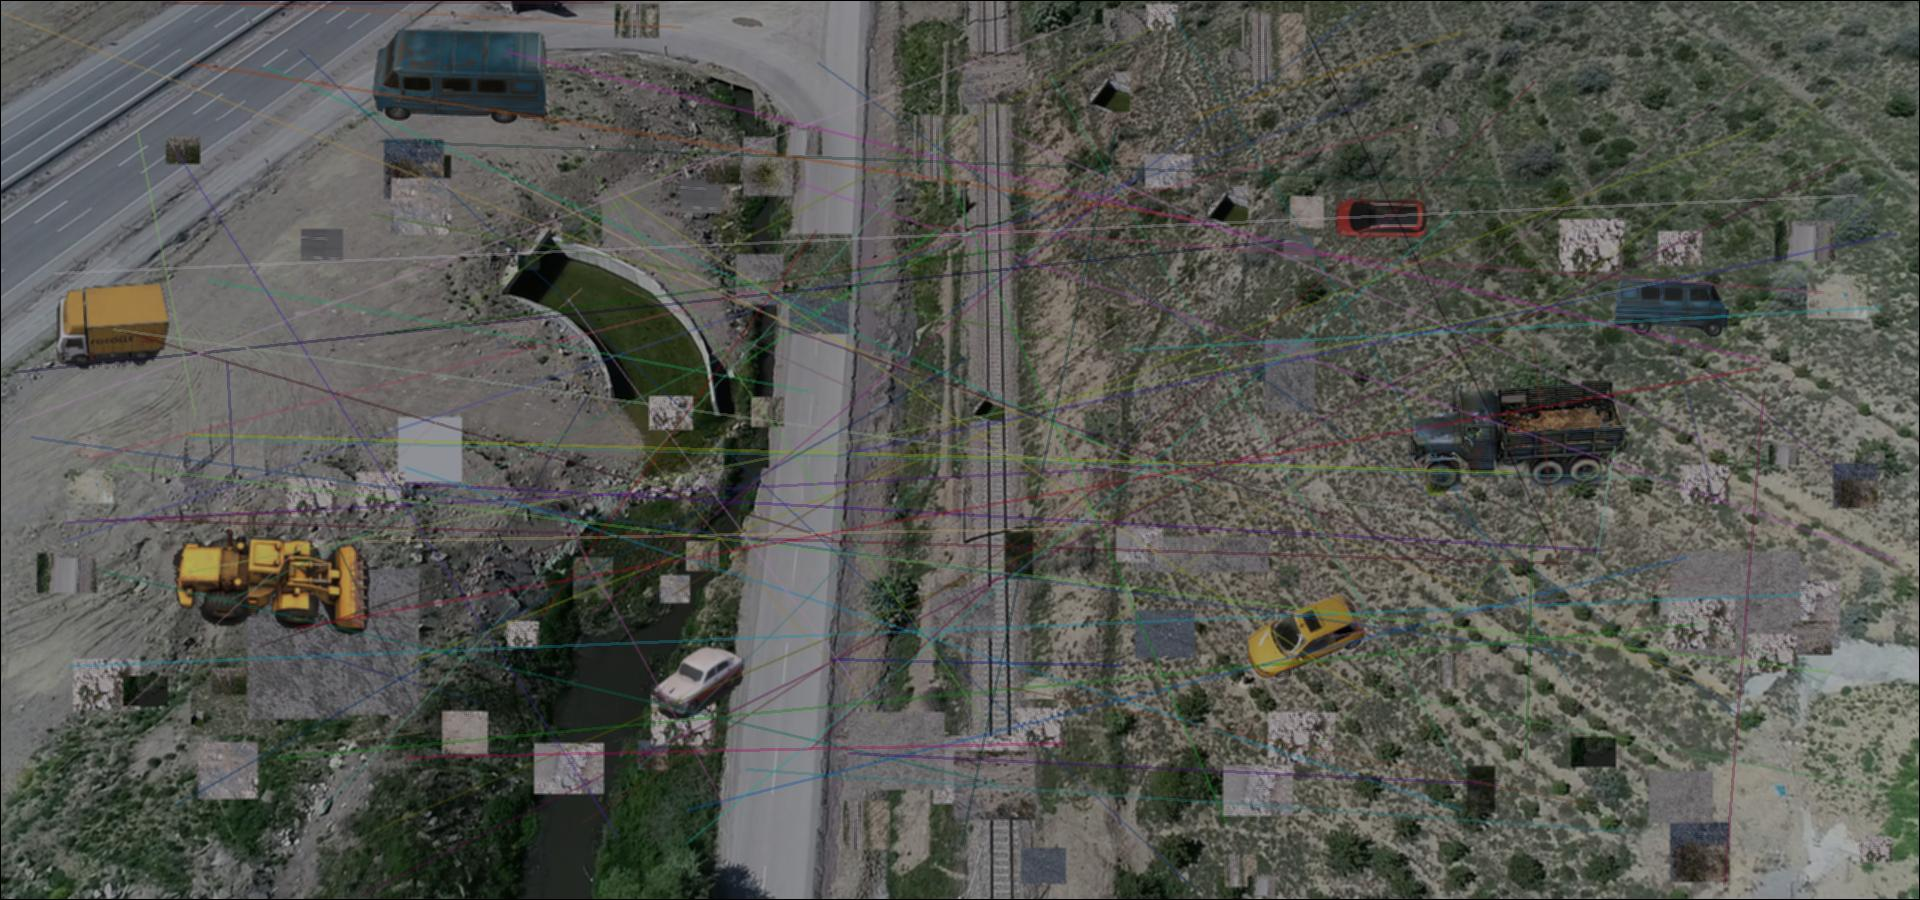arac: (163, 507, 384, 651), (1409, 377, 1629, 496), (373, 29, 549, 126), (1248, 589, 1369, 684), (53, 283, 169, 369), (649, 642, 747, 719), (1613, 279, 1730, 339), (1333, 193, 1431, 242)
